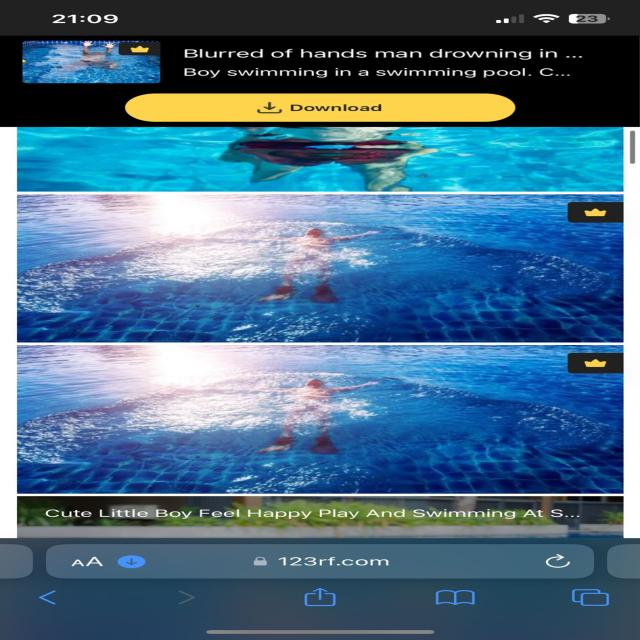Swimming: (235, 226, 382, 298), (252, 374, 372, 456)
